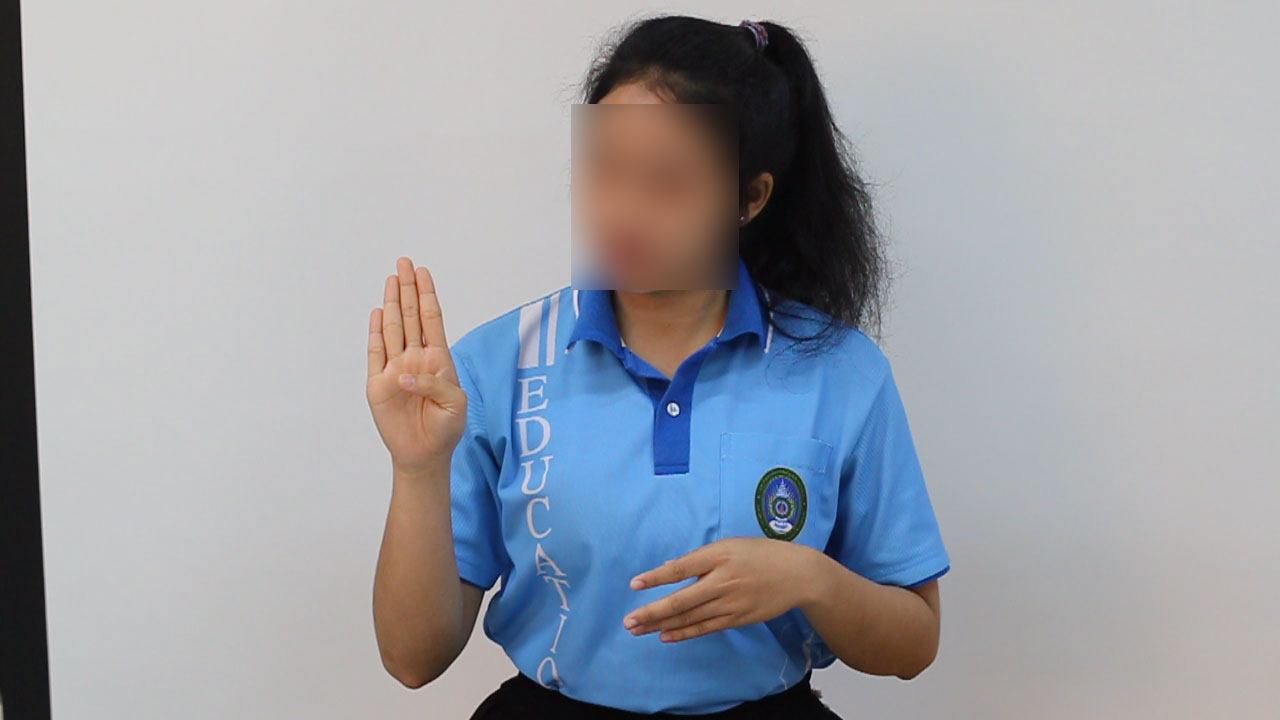bor: (344, 241, 489, 494)
